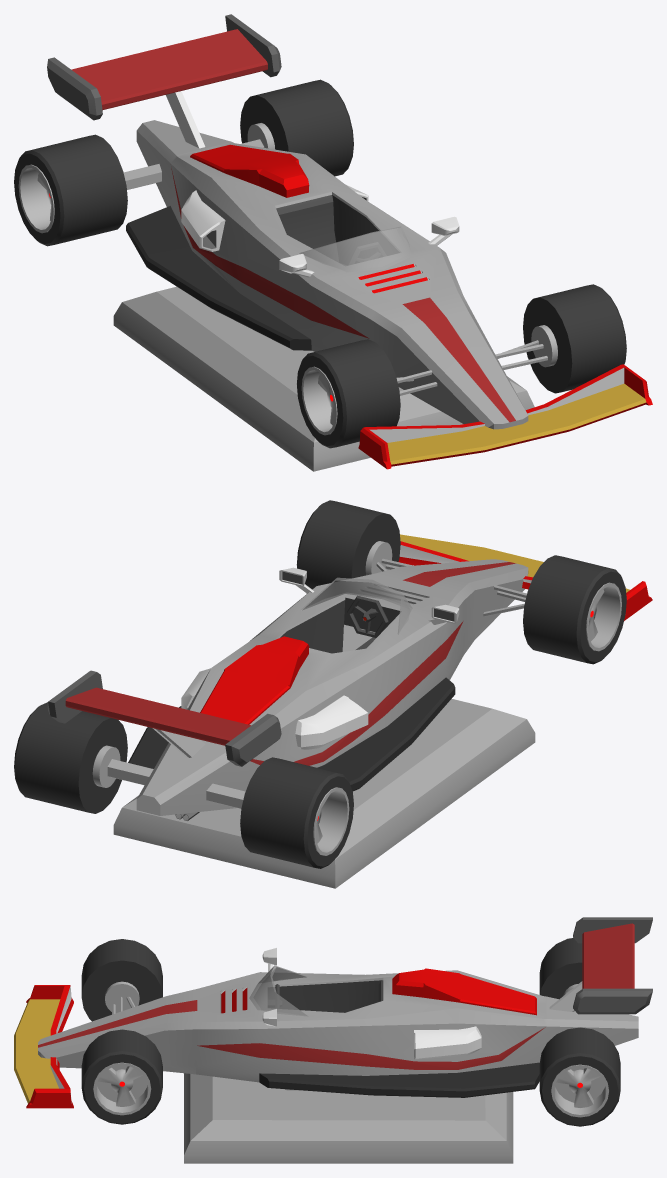
File: F1Car.fbx
The picture shows the model from 3 angles, top to bottom: view 1: azimuth 30°, elevation 25°; view 2: azimuth 150°, elevation 25°; view 3: azimuth 270°, elevation 25°; orthographic projection. The views are drawn at different scales.
Parts seen in each view (by area): view 1: CarBodyShape, Stand, RearWheels, FrontWheels; view 2: CarBodyShape, Stand, RearWheels, FrontWheels, Wheel; view 3: CarBodyShape, Stand, FrontWheels, RearWheels.
Boxes of the visible parts, left/top/right/bottom form: CarBodyShape: left=47, top=14, right=652, bottom=469; Stand: left=113, top=286, right=534, bottom=471; RearWheels: left=14, top=79, right=353, bottom=246; FrontWheels: left=297, top=284, right=626, bottom=448; CarBodyShape: left=47, top=534, right=652, bottom=820; Stand: left=113, top=699, right=535, bottom=888; RearWheels: left=14, top=702, right=353, bottom=868; FrontWheels: left=296, top=500, right=626, bottom=664; Wheel: left=347, top=595, right=388, bottom=637; CarBodyShape: left=14, top=917, right=652, bottom=1108; Stand: left=184, top=1073, right=513, bottom=1163; FrontWheels: left=81, top=939, right=162, bottom=1124; RearWheels: left=539, top=938, right=620, bottom=1126.
Bounding box in the file's own units: 223 × 144 × 507.
